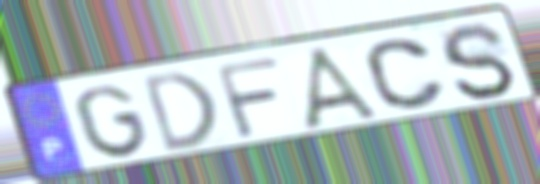A: (300, 43, 390, 131)
C: (361, 36, 449, 113)
D: (139, 68, 222, 157)
F: (212, 55, 285, 142)
G: (70, 81, 153, 161)
S: (436, 21, 520, 103)
